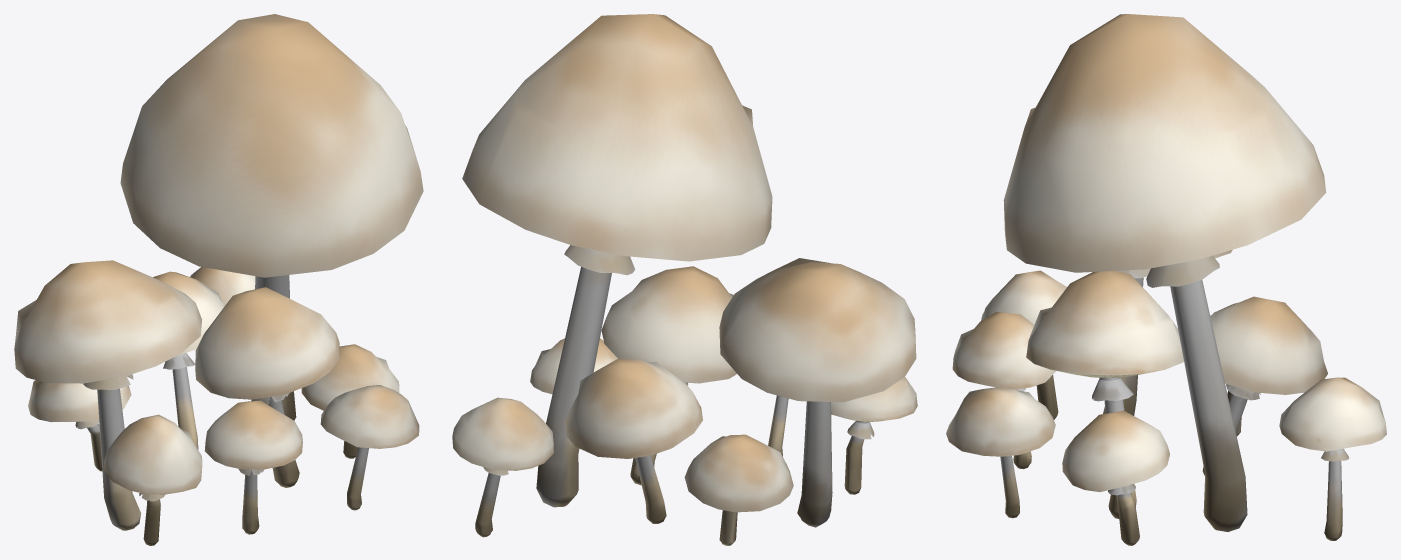
File: porcelain_mushroom-_forest_shooter.glb
The picture shows the model from 3 angles, left to right: view 1: azimuth 30°, elevation 25°; view 2: azimuth 150°, elevation 25°; view 3: azimuth 270°, elevation 25°; orthographic projection. The views are drawn at different scales.
Visible parts, largest first — view 1: polySurface55; view 2: polySurface55; view 3: polySurface55.
Boxes of the visible parts, x1=… form: polySurface55: x1=14, y1=14, x2=423, y2=545; polySurface55: x1=452, y1=14, x2=917, y2=545; polySurface55: x1=946, y1=14, x2=1386, y2=545.
Bounding box in the file's own units: 13.46 × 15.09 × 12.09.
Materials: 1 (1 with a texture image).
